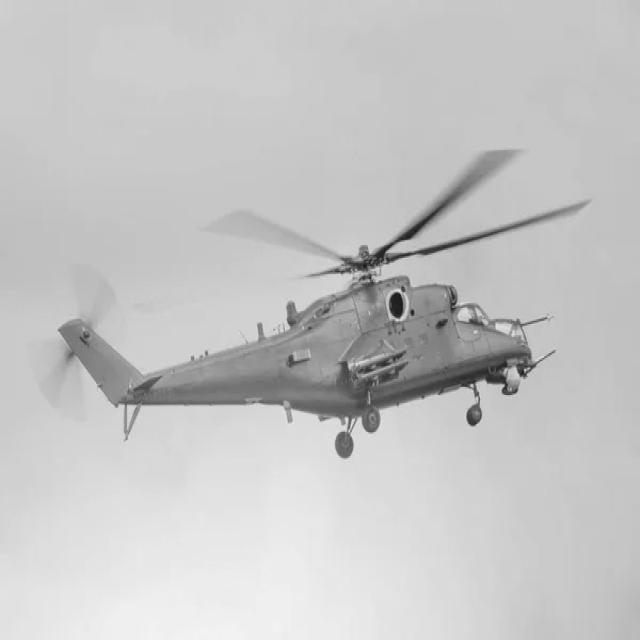Helicopter: (59, 150, 591, 459)
